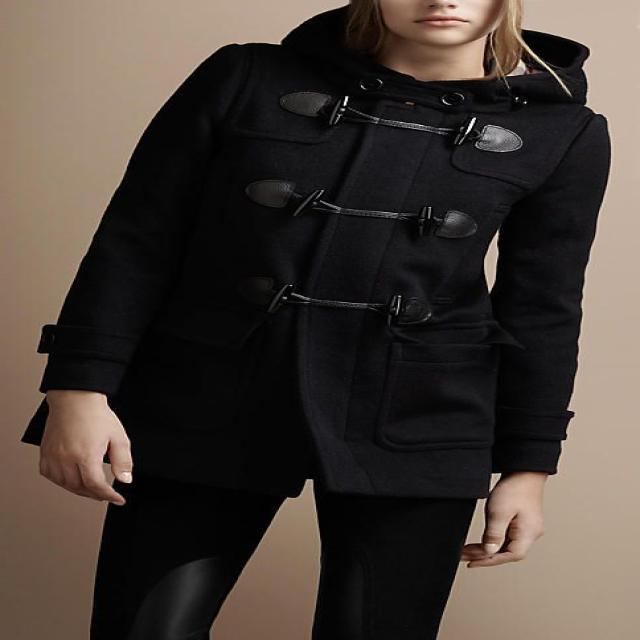coat: (16, 3, 615, 495)
trousers: (88, 473, 485, 640)
